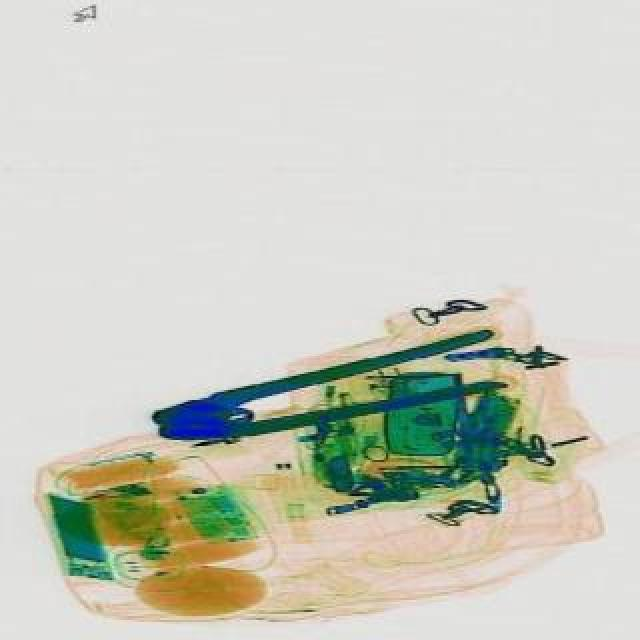wrench: (152, 328, 512, 456)
